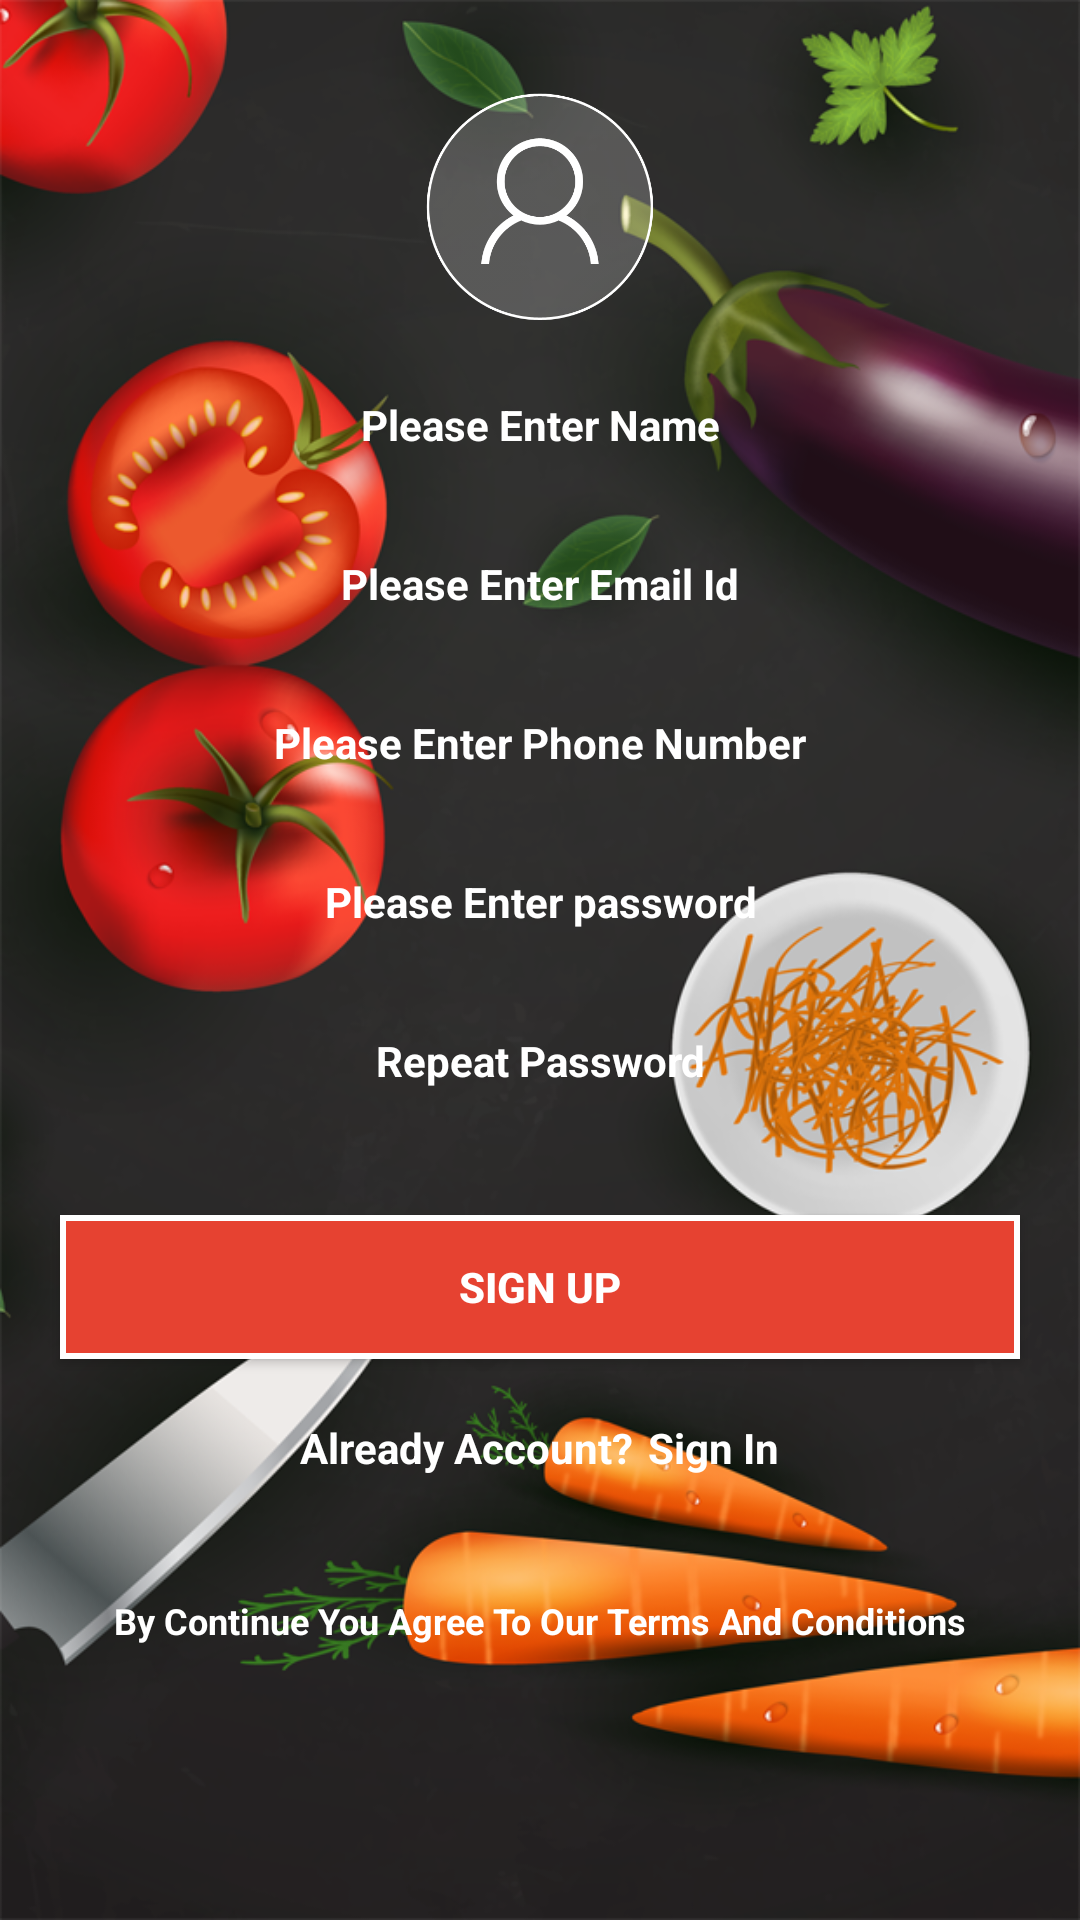

Icon click points for this 1080w x 1920h phone screenshot, format (x=x, y=y):
uploadimage: (x=543, y=205)
